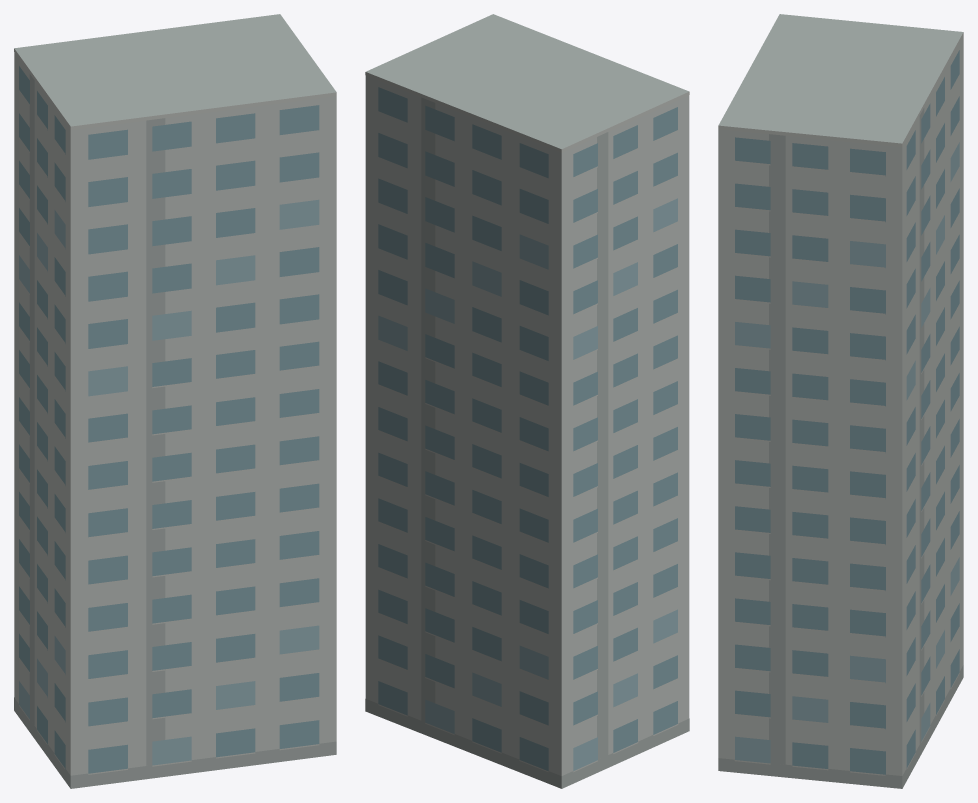
Rendered from residential-81e362a9-08dc-4d6b-bb17-6ddc2a39c9c9.glb.
The picture shows the model from 3 angles, left to right: view 1: azimuth 30°, elevation 25°; view 2: azimuth 150°, elevation 25°; view 3: azimuth 270°, elevation 25°; orthographic projection. The views are drawn at different scales.
Visible parts, largest first — view 1: residential-81e362a9-08dc-4d6b-bb17-6ddc2a39c9c9.tmp; view 2: residential-81e362a9-08dc-4d6b-bb17-6ddc2a39c9c9.tmp; view 3: residential-81e362a9-08dc-4d6b-bb17-6ddc2a39c9c9.tmp.
Part boxes in pixels (bbox=[...]): residential-81e362a9-08dc-4d6b-bb17-6ddc2a39c9c9.tmp: bbox=[14, 14, 336, 788]; residential-81e362a9-08dc-4d6b-bb17-6ddc2a39c9c9.tmp: bbox=[365, 14, 689, 788]; residential-81e362a9-08dc-4d6b-bb17-6ddc2a39c9c9.tmp: bbox=[718, 14, 963, 788].
Size of the model in its own units: 18.95 by 44 by 15.16.
